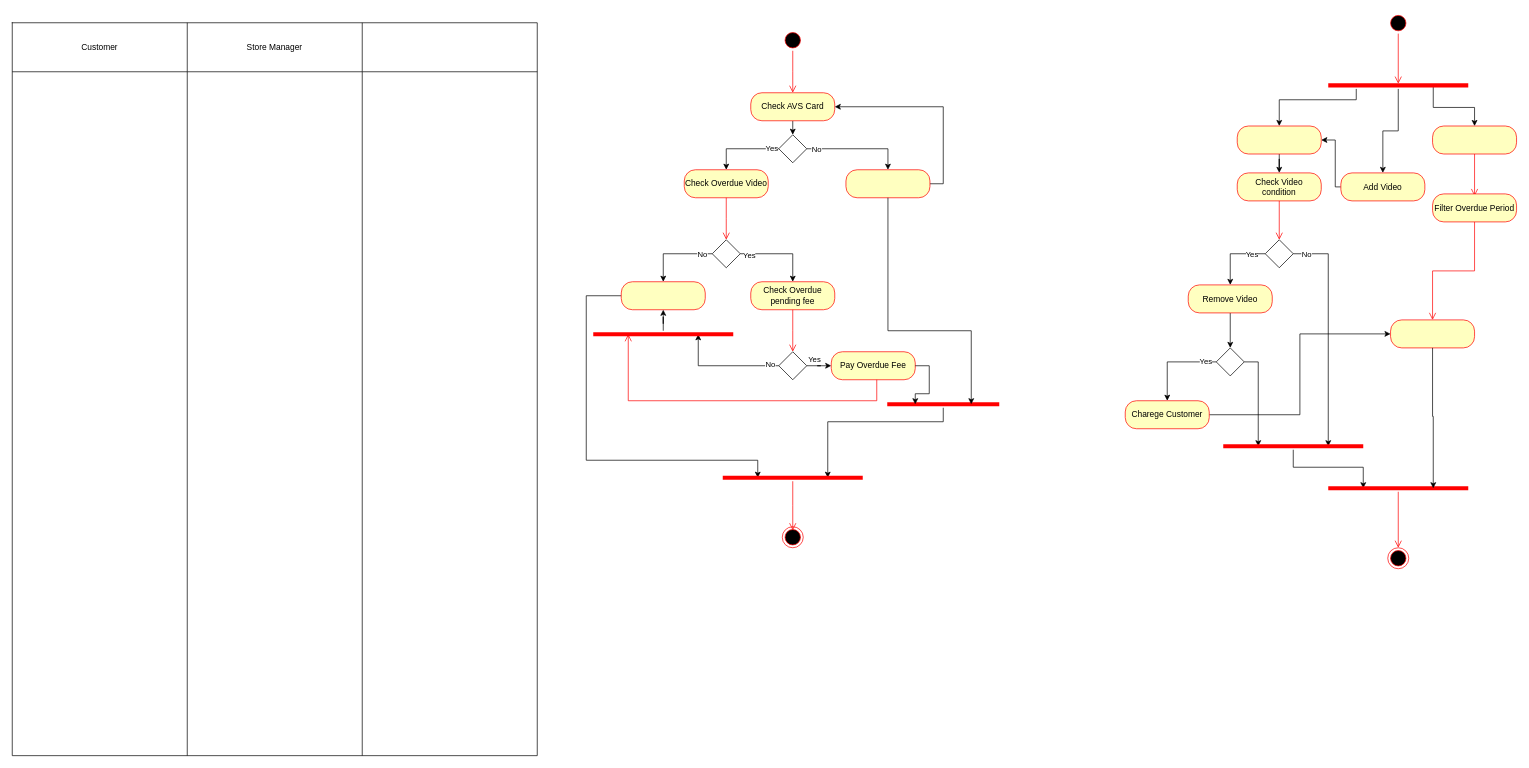
Some shapes in this 1529 by 768 pixel diagram are drawn without their labels. The centre of each missing label's shape, as x and y in pixels:
"Get Overdue List" belongs at point (1474, 139).
"Notify Customers" belongs at point (1432, 333).
"Register" belongs at point (887, 183).
"Rent Video" belongs at point (663, 295).
"View Video" belongs at point (1279, 139).
